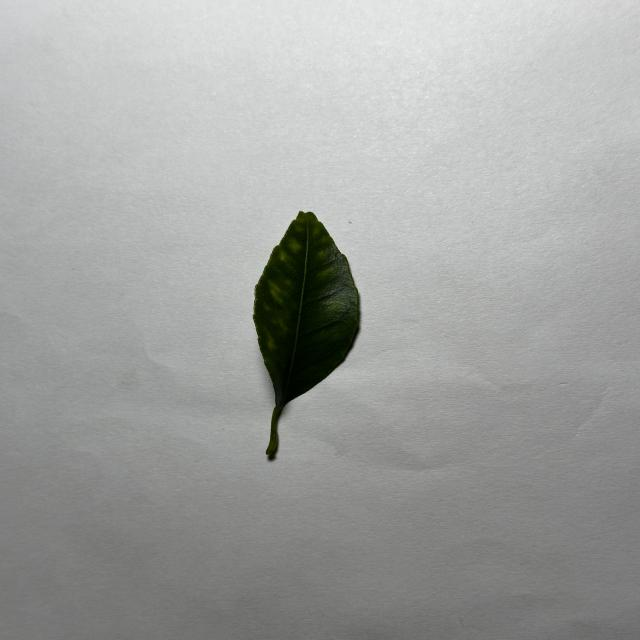greening: (253, 211, 359, 457)
